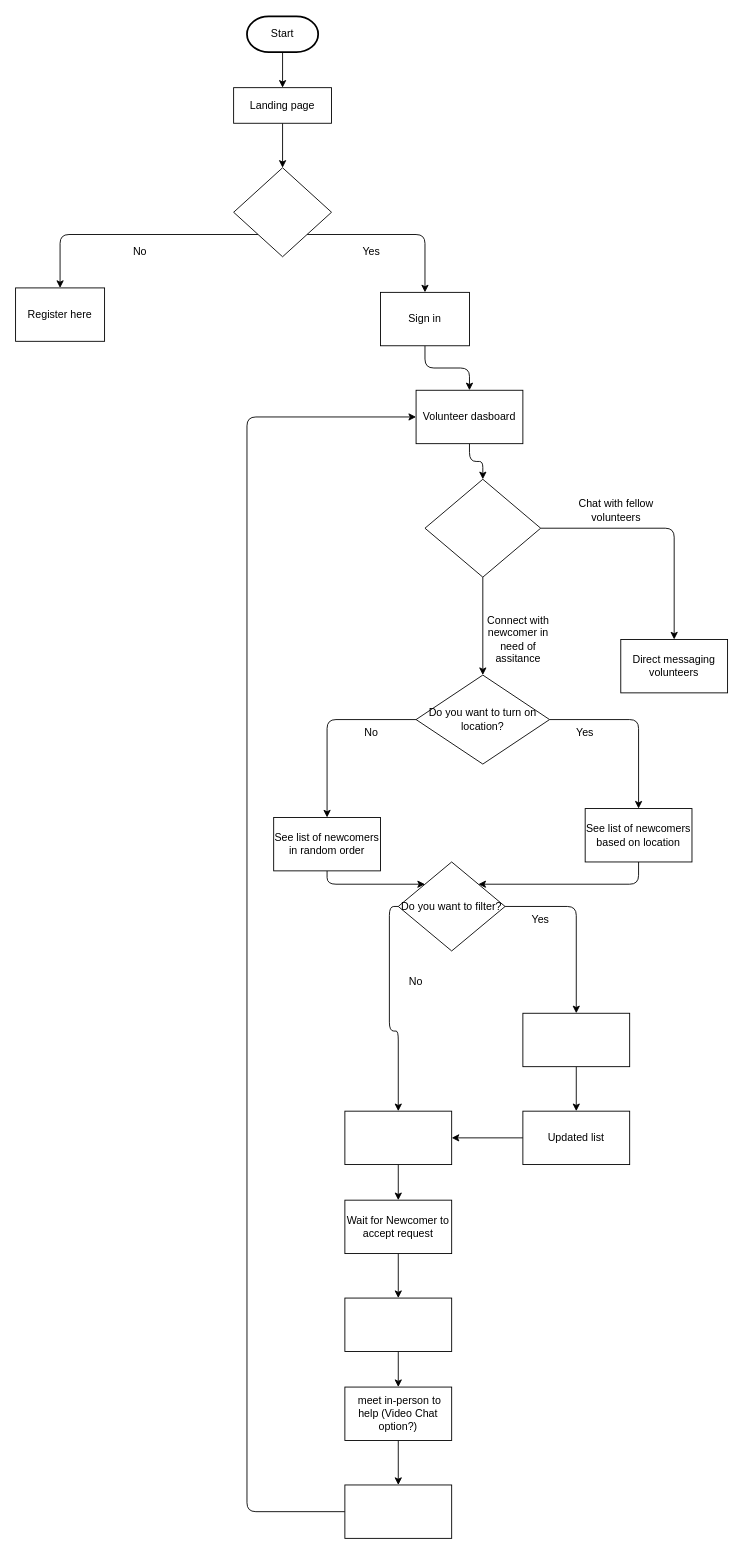
The diagram is 743 pixels wide and 1554 high, and some of its shapes have lost their labels. The centre of each missing label's shape, as x and y in pixels:
"Click on job that you would like to assist with" goes at [398,1137].
"Do you have an accout?" goes at [282,212].
"Filter by nationality and/or tasks" goes at [576,1039].
"Once accepted, enter chat to understand assignment" goes at [398,1324].
"Task complete, go back to login screen" goes at [398,1511].
"What action do you want to do?" goes at [482,527].
